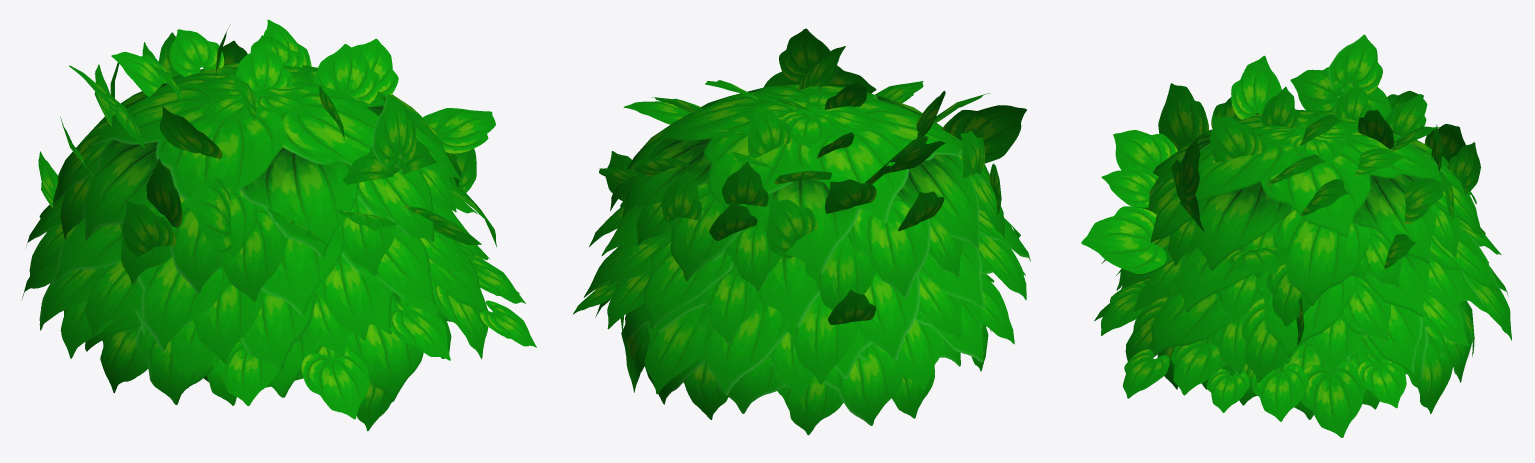
File: Plant.fbx
The picture shows the model from 3 angles, left to right: view 1: azimuth 30°, elevation 25°; view 2: azimuth 150°, elevation 25°; view 3: azimuth 270°, elevation 25°; orthographic projection. The views are drawn at different scales.
Parts seen in each view (by area): view 1: polySurface7; view 2: polySurface7; view 3: polySurface7.
Boxes of the visible parts, x1,y1,x2,y2 form: polySurface7: [21, 19, 536, 431]; polySurface7: [573, 28, 1030, 435]; polySurface7: [1081, 34, 1511, 437].
Bounding box in the file's own units: 2.69 × 1.89 × 2.75.
1 material, 1 textured.
